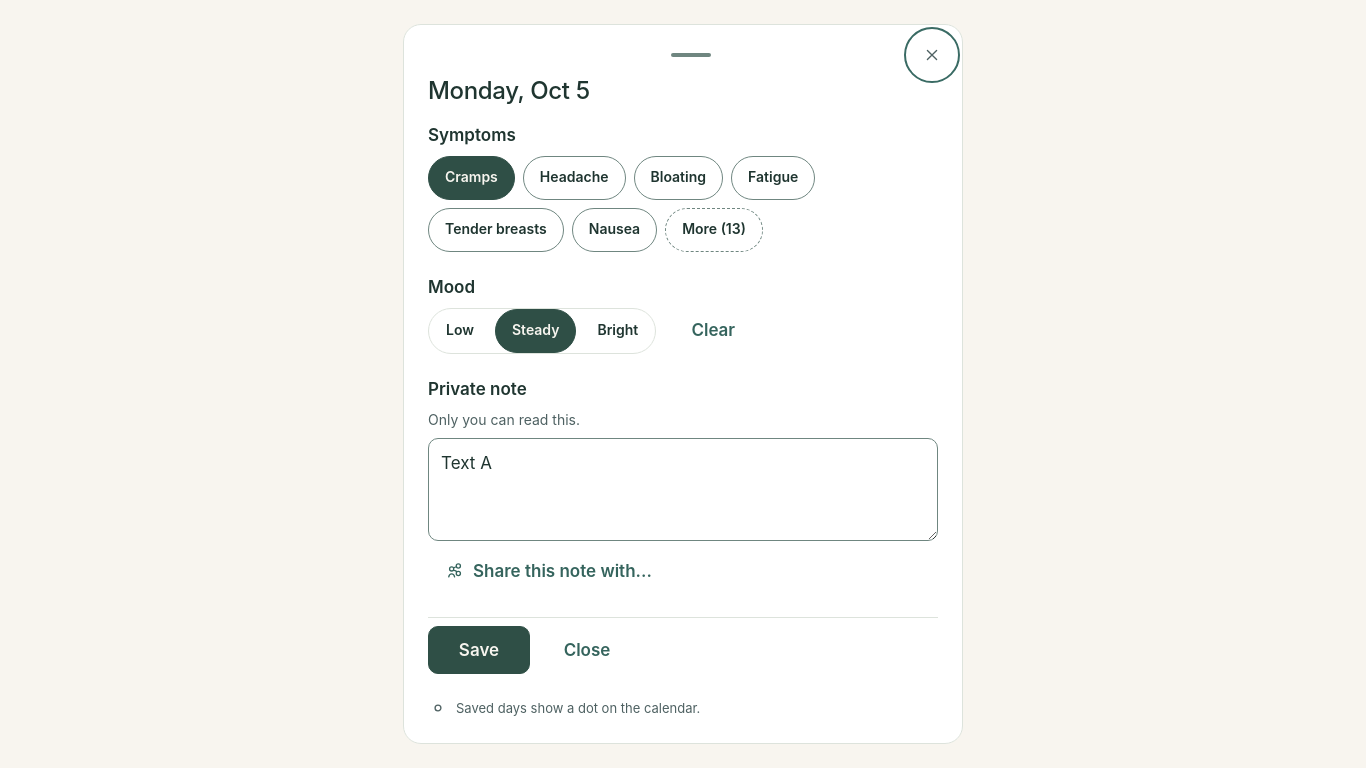
it: DayLogSheet › counts a share that already landed as shared when the retry meets a moved version
(page scrolled)
Click the button "Share this note with...": (548, 571) [428,549,669,593]
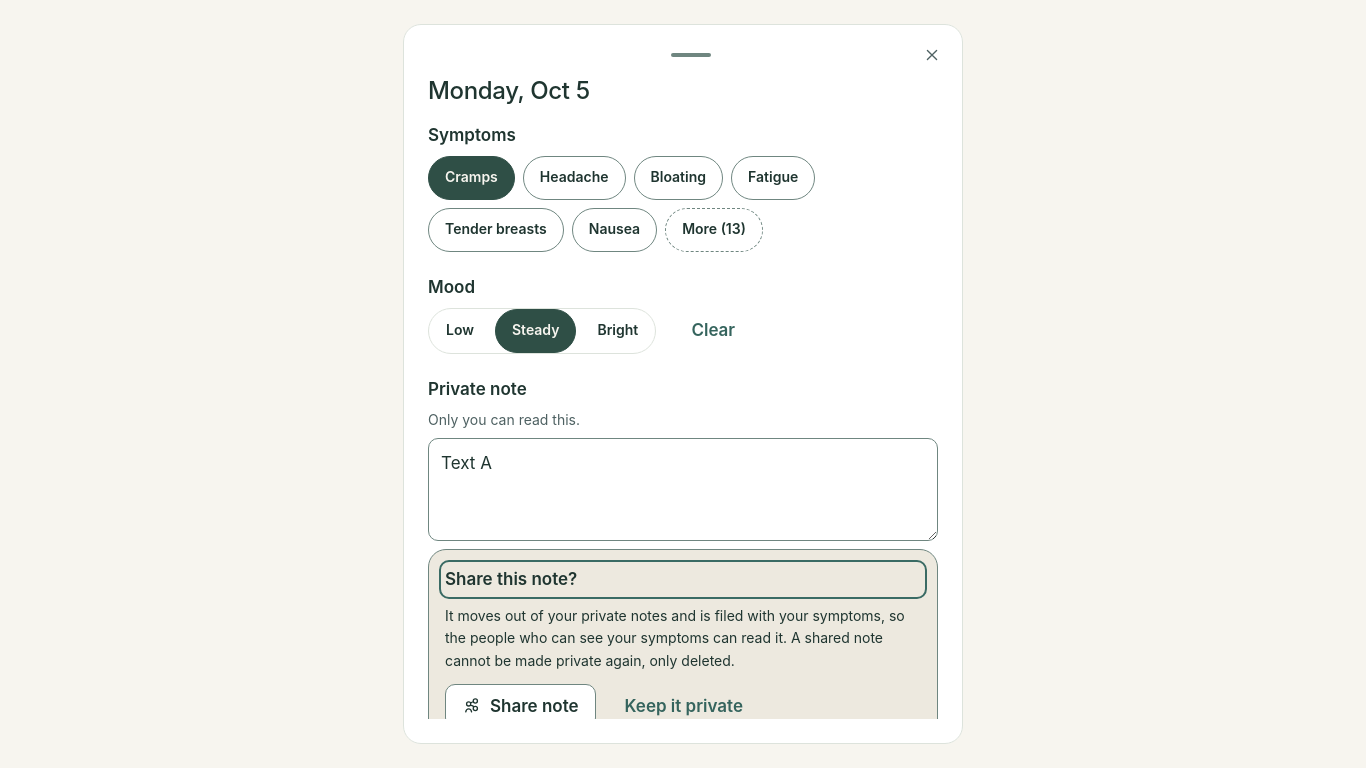
Click the button "Share note": (520, 706) [445,684,596,728]
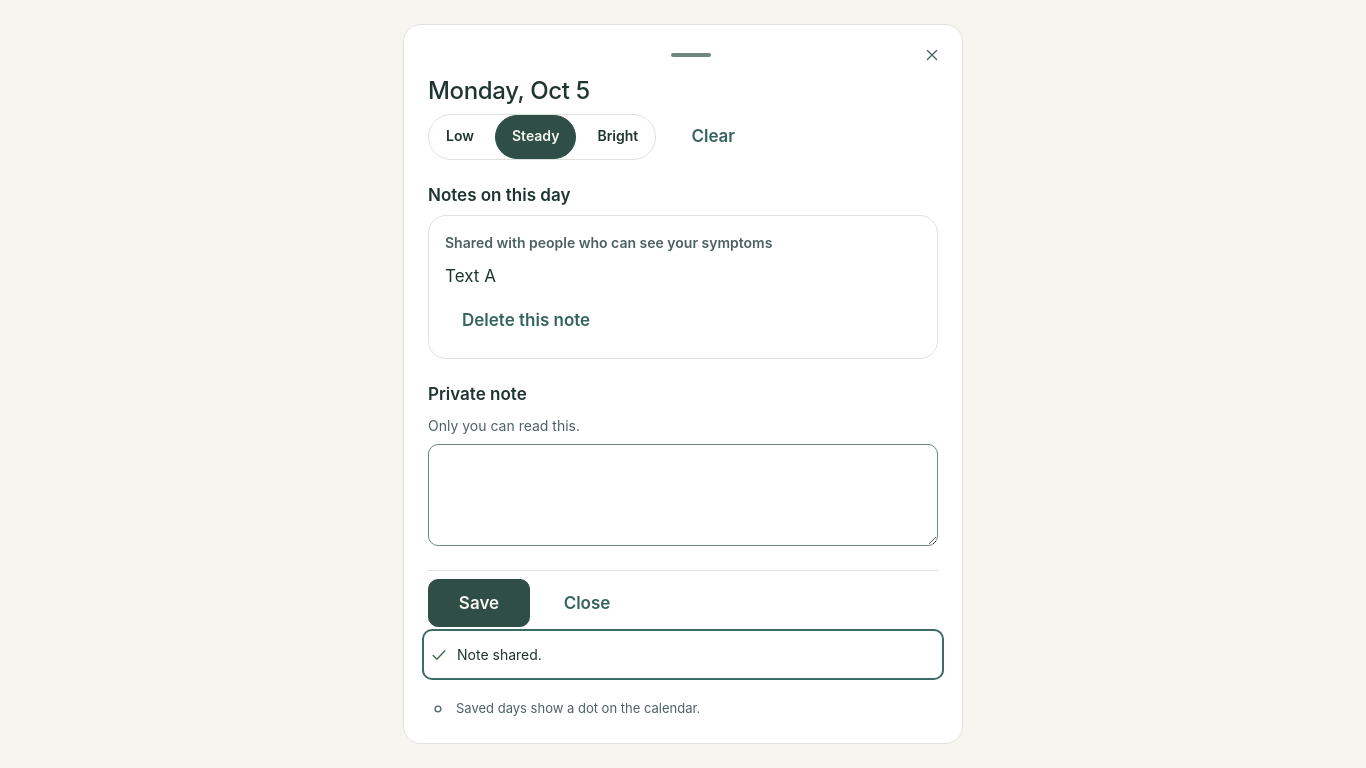
Expected: the text "Note shared." is shown, [457,644,542,665]
Expected: the text box labelled "Private note" is empty, [428,444,938,546]
